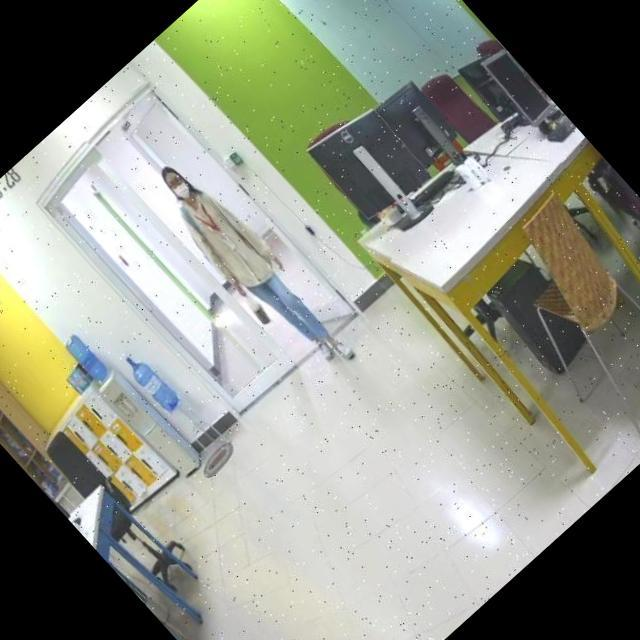person: (142, 151, 364, 389)
